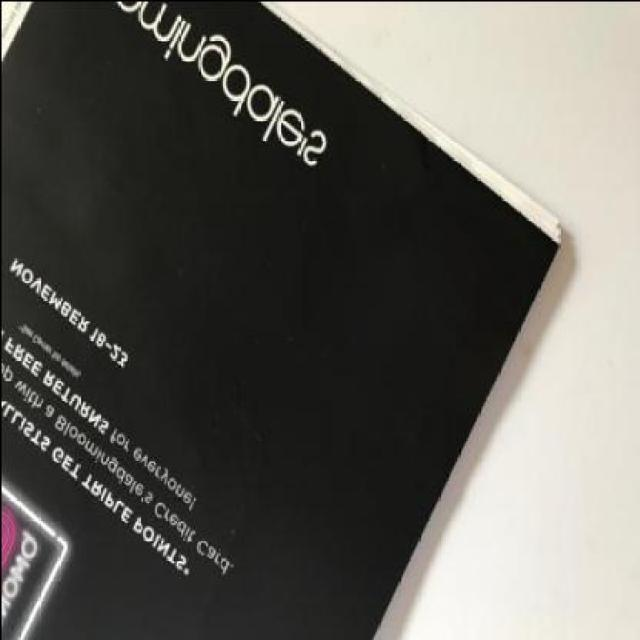PAPER: (2, 1, 560, 638)
